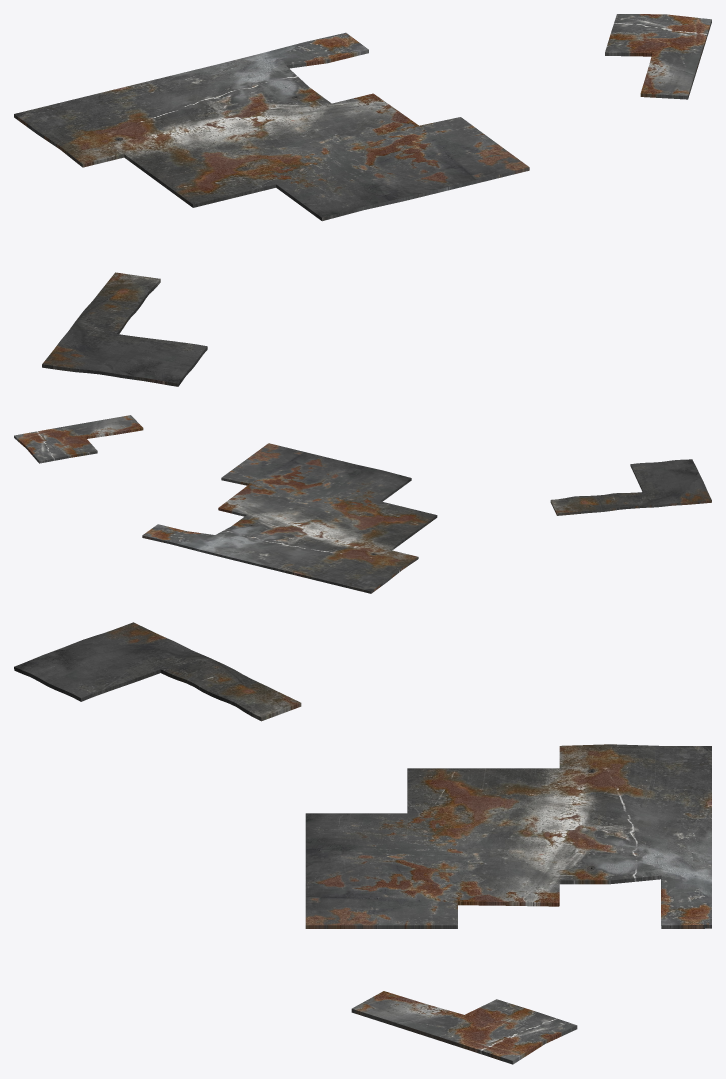
File: PRP_BrokenTiles.fbx
3 views of the same model, one above another, from view 1: azimuth 30°, elevation 25°; view 2: azimuth 150°, elevation 25°; view 3: azimuth 270°, elevation 25° (orthographic). The views are drawn at different scales.
Parts seen in each view (by area): view 1: Plane.001; view 2: Plane.001; view 3: Plane.001.
Boxes of the visible parts, <box> form: Plane.001: <box>14,14,711,386</box>; Plane.001: <box>14,415,711,593</box>; Plane.001: <box>14,622,711,1064</box>.
Bounding box in the file's own units: 4.02 × 0.0922 × 2.61.
3 materials, 3 textured.
